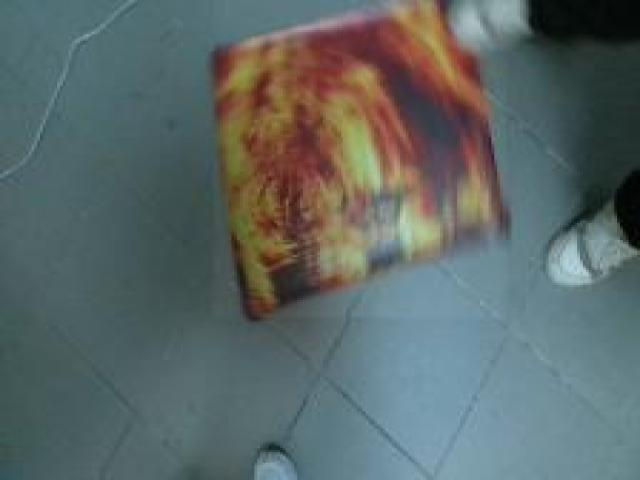fire-poster: (205, 0, 517, 321)
